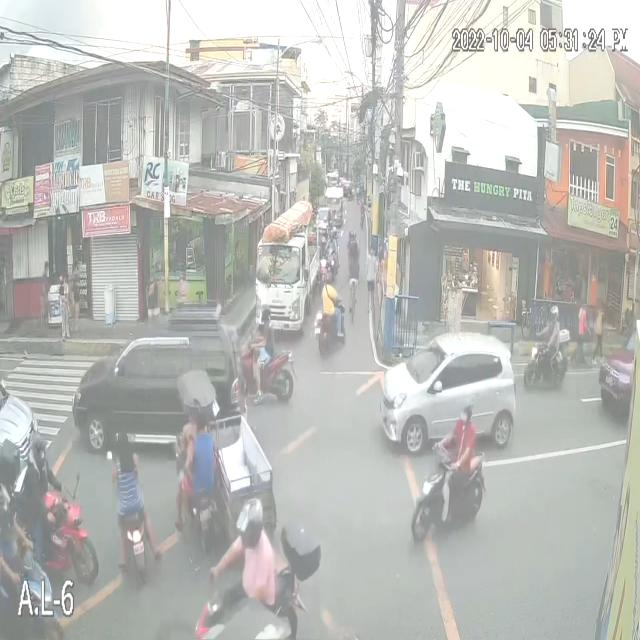Full-Faced: (234, 493, 266, 551), (452, 386, 476, 434), (28, 429, 52, 472), (258, 298, 271, 326), (546, 305, 562, 327), (320, 264, 332, 286), (328, 226, 338, 241)
